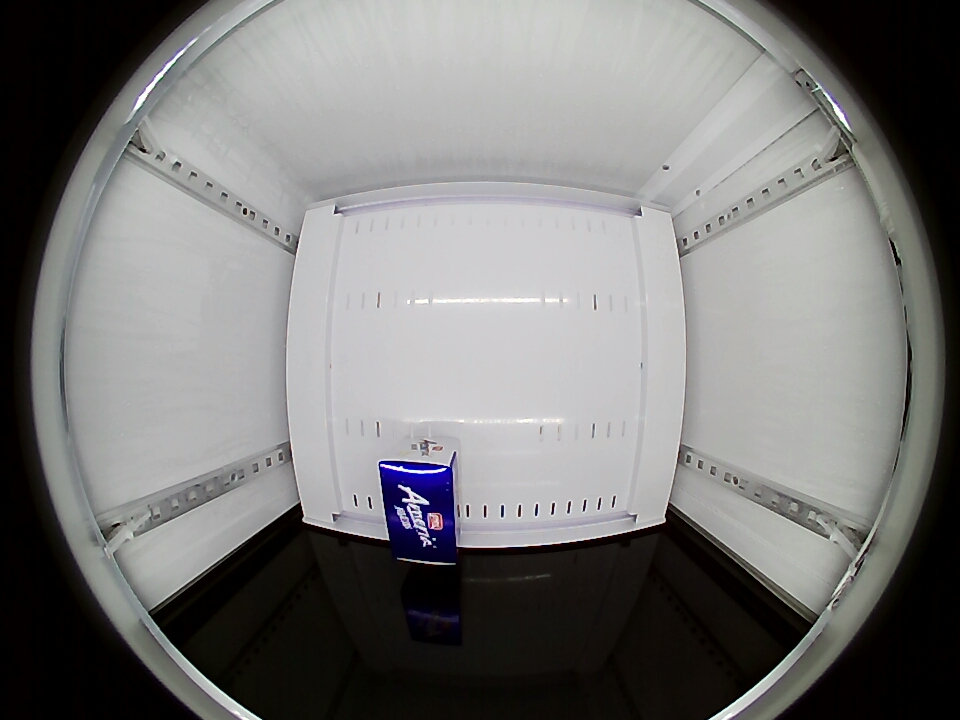meiniye: (379, 454, 458, 564)
